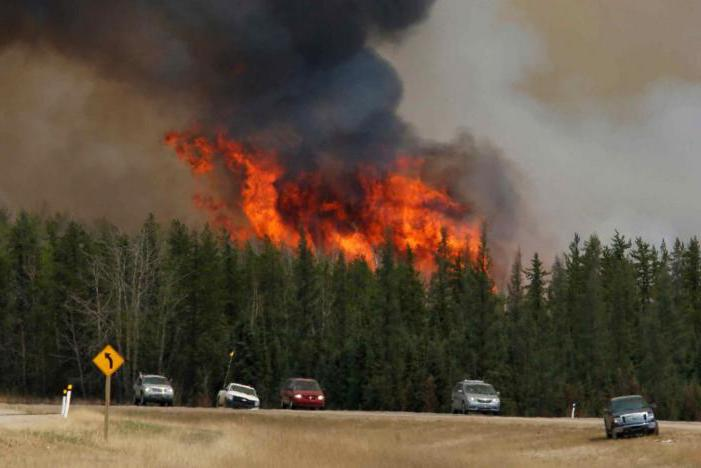fire: (171, 112, 521, 288)
